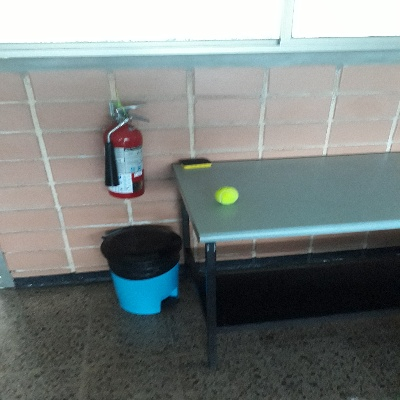Ball: (213, 186, 237, 205)
